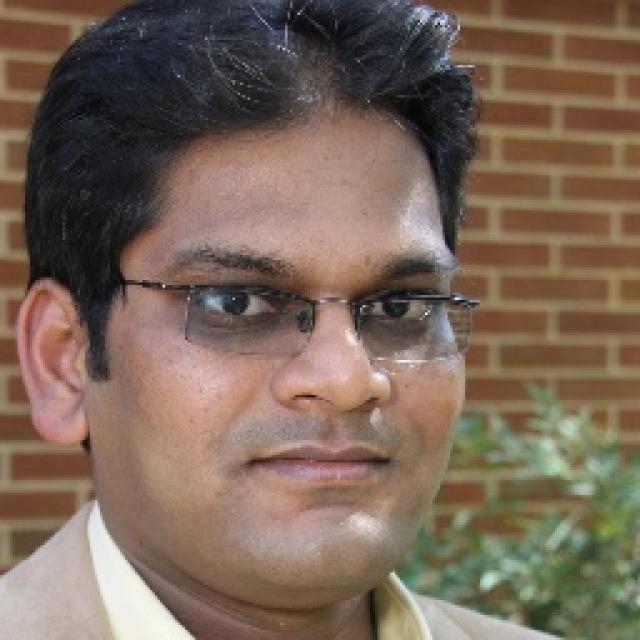earlobe: (10, 282, 91, 446)
